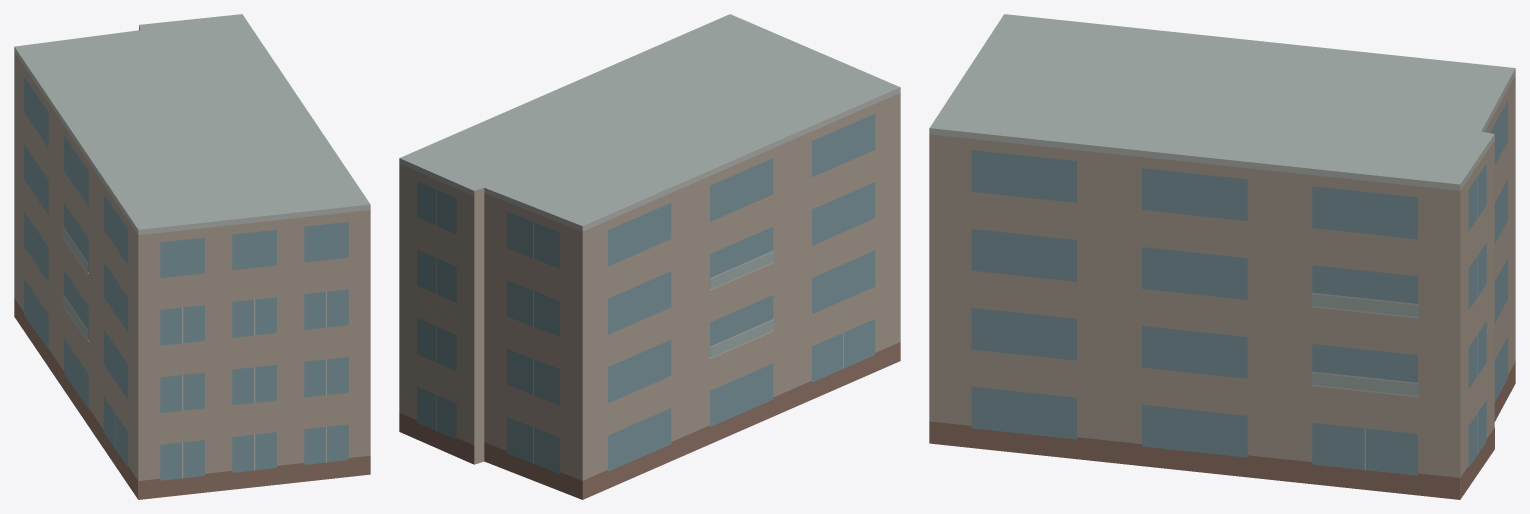
The model's file is survey-upis-32873149.glb.
The picture shows the model from 3 angles, left to right: view 1: azimuth 30°, elevation 25°; view 2: azimuth 150°, elevation 25°; view 3: azimuth 270°, elevation 25°; orthographic projection. The views are drawn at different scales.
Parts seen in each view (by area): view 1: survey-upis-32873149.tmp; view 2: survey-upis-32873149.tmp; view 3: survey-upis-32873149.tmp.
Boxes of the visible parts, <box> form: survey-upis-32873149.tmp: <box>14,14,370,499</box>; survey-upis-32873149.tmp: <box>399,14,900,499</box>; survey-upis-32873149.tmp: <box>929,14,1515,499</box>.
Size of the model in its own units: 14.16 by 12.2 by 20.56.
